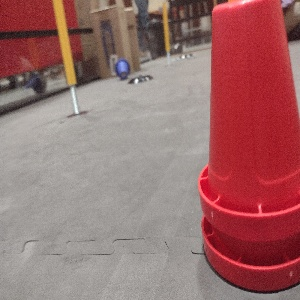Blue_1: (113, 58, 130, 80)
Red_2: (196, 0, 299, 294)
